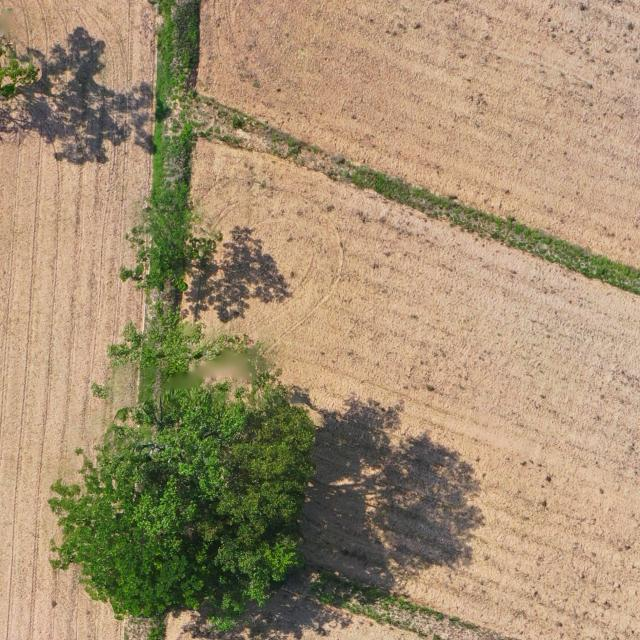Tree: (44, 370, 322, 637), (116, 177, 224, 296), (105, 302, 258, 378), (0, 3, 39, 132)
